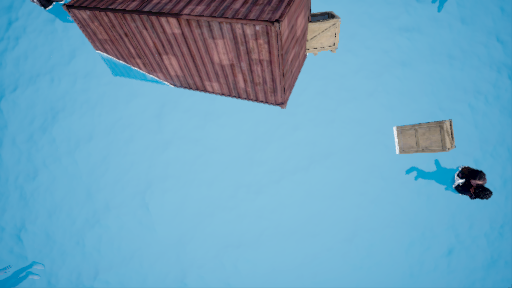person: (413, 155, 496, 206)
